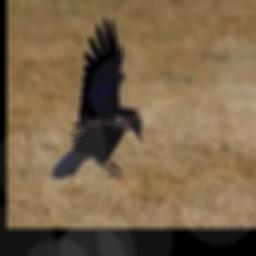Crow: (51, 18, 142, 181)
